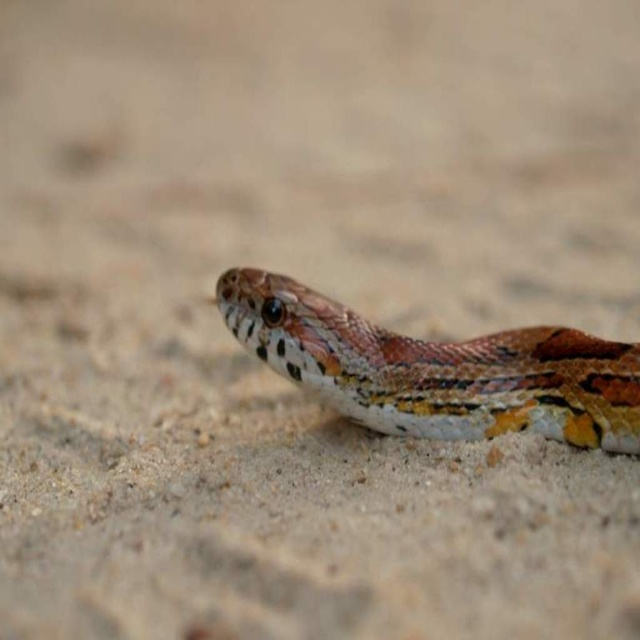Snake: (210, 258, 639, 453)
